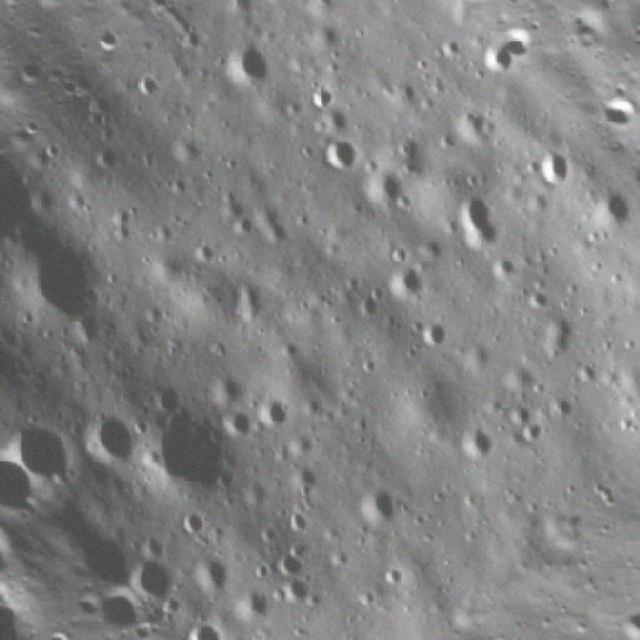crater: (0, 204, 145, 358), (124, 382, 265, 523), (68, 389, 162, 483), (2, 404, 92, 498), (438, 179, 528, 272), (0, 157, 66, 278), (212, 27, 294, 108), (0, 289, 49, 414), (344, 469, 419, 545), (371, 251, 440, 320), (359, 161, 426, 228), (124, 552, 187, 617), (182, 545, 244, 607), (523, 139, 585, 201), (270, 564, 327, 621), (312, 130, 368, 188), (589, 187, 640, 245), (452, 420, 506, 474), (412, 309, 466, 362), (471, 39, 522, 92), (175, 607, 241, 640), (542, 387, 588, 433), (485, 249, 530, 294), (503, 397, 542, 437), (511, 418, 549, 457)
